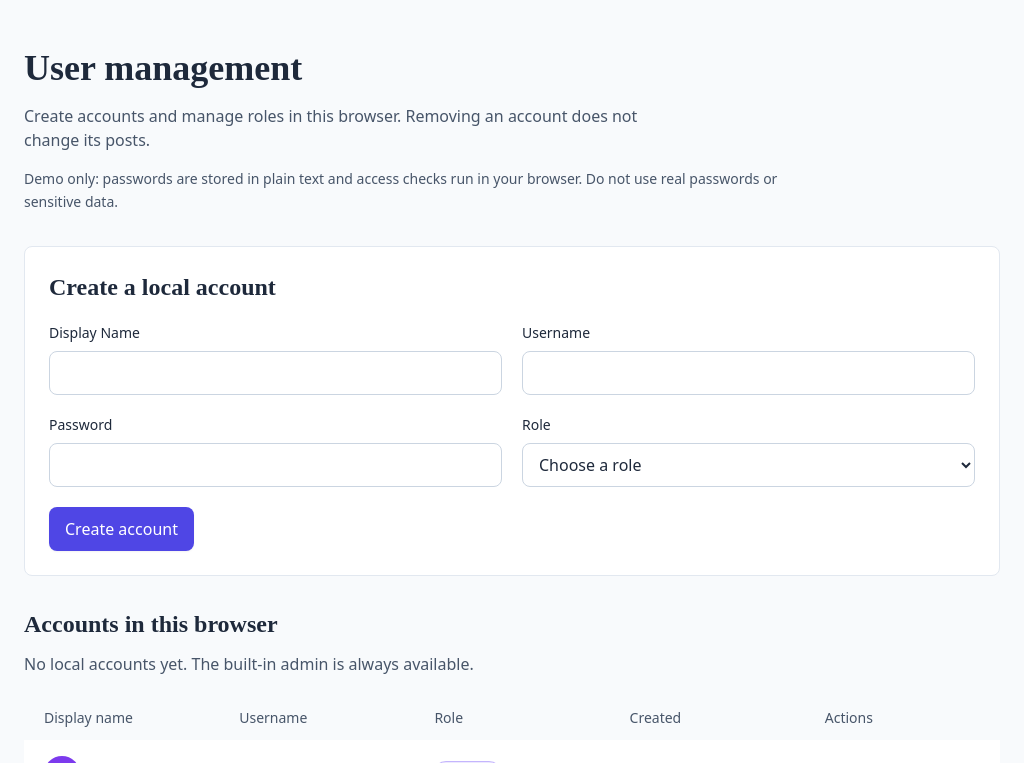
Test: creates user with fresh collection/UUID fields and resets only on success
Type "New Writer" into the field labelled "Display Name".
click(276, 372); type("New Writer")  # box [49,350,502,394]
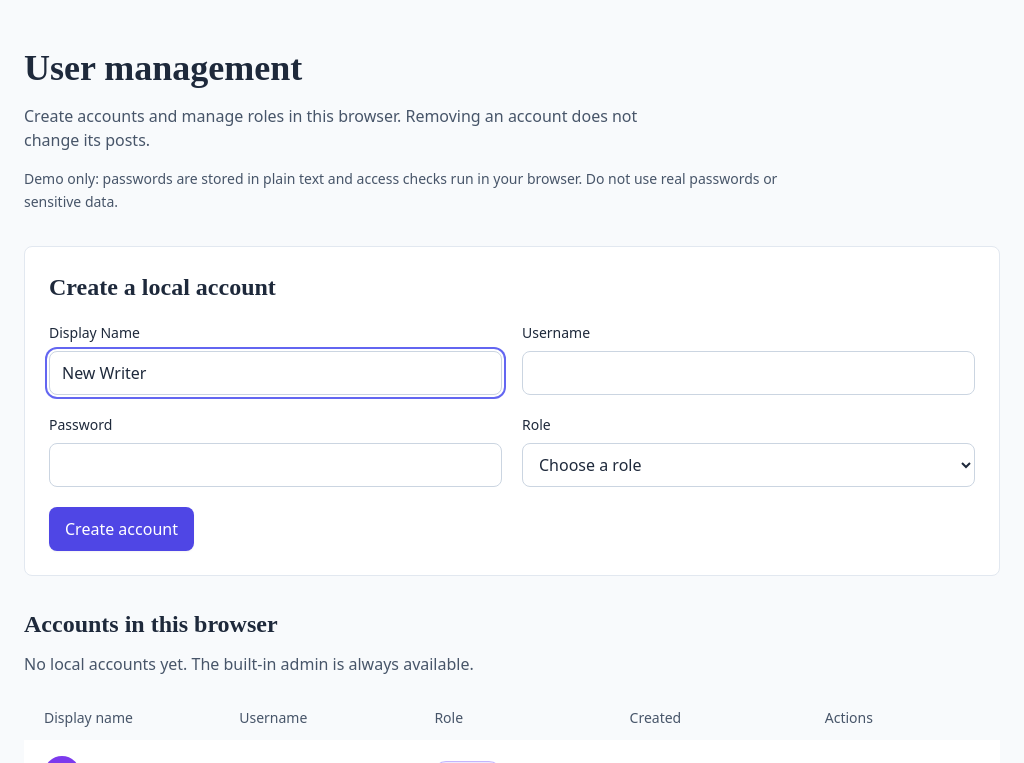
Type "new-writer" into the field labelled "Username".
click(748, 372); type("new-writer")  # box [522,350,975,394]
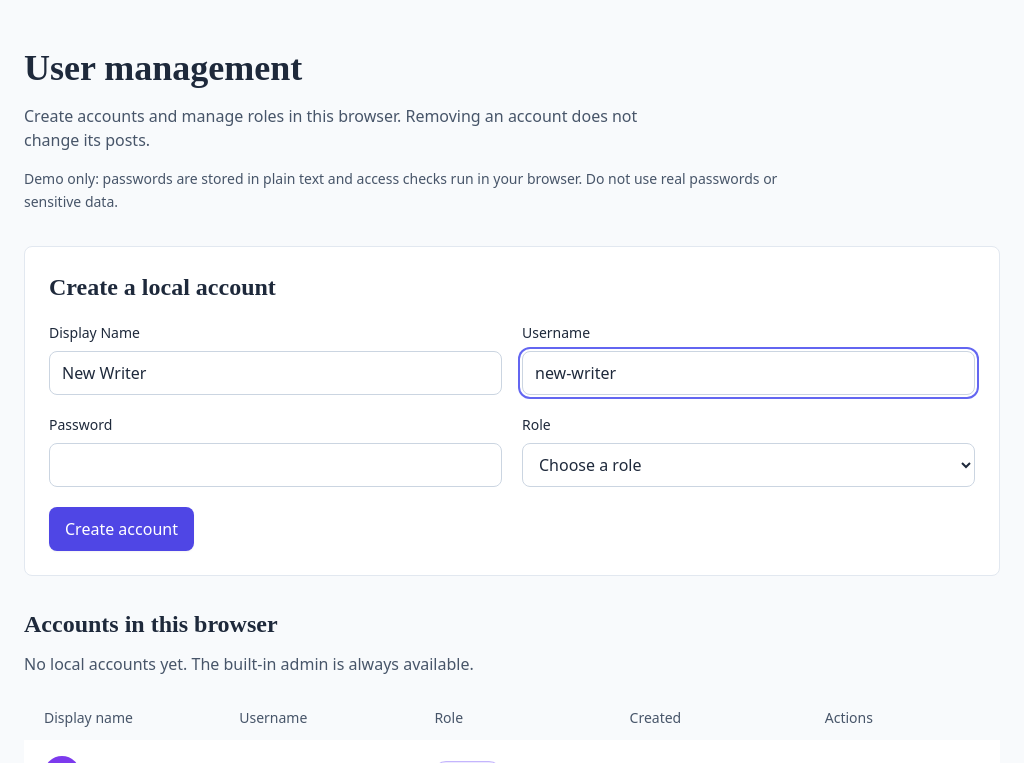
Type "demo-only" into the password field labelled "Password".
click(276, 464); type("demo-only")  # box [49,442,502,486]
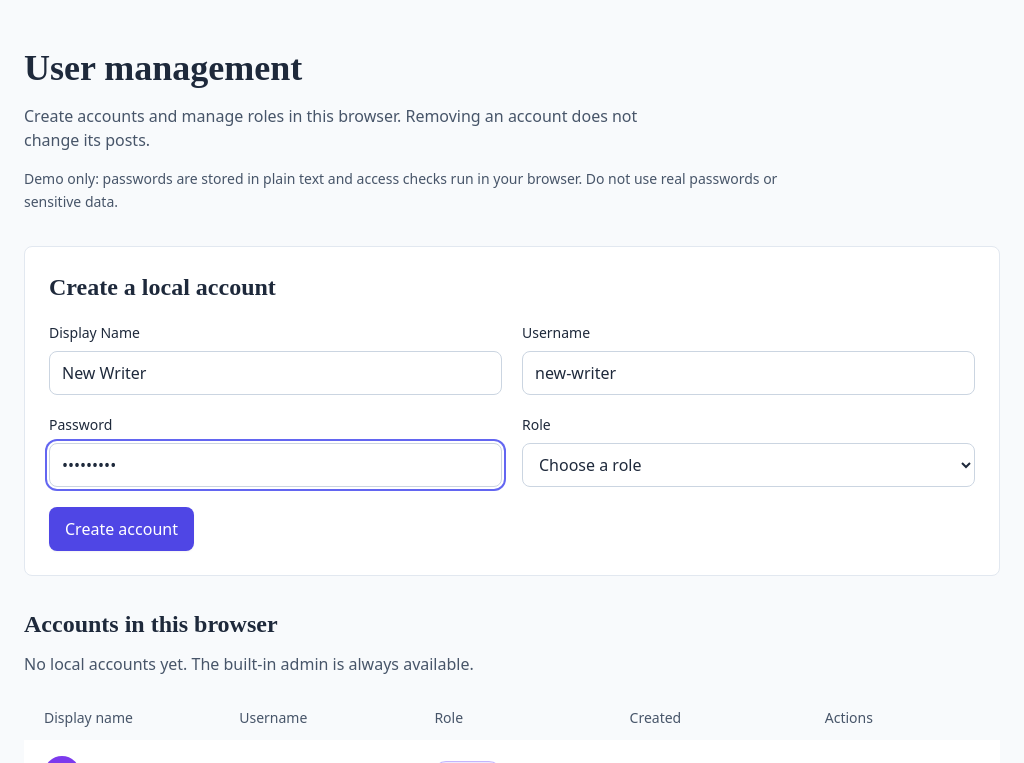
Select "User" in the dropdown labelled "Role" at [748, 464], box [522,442,975,486]
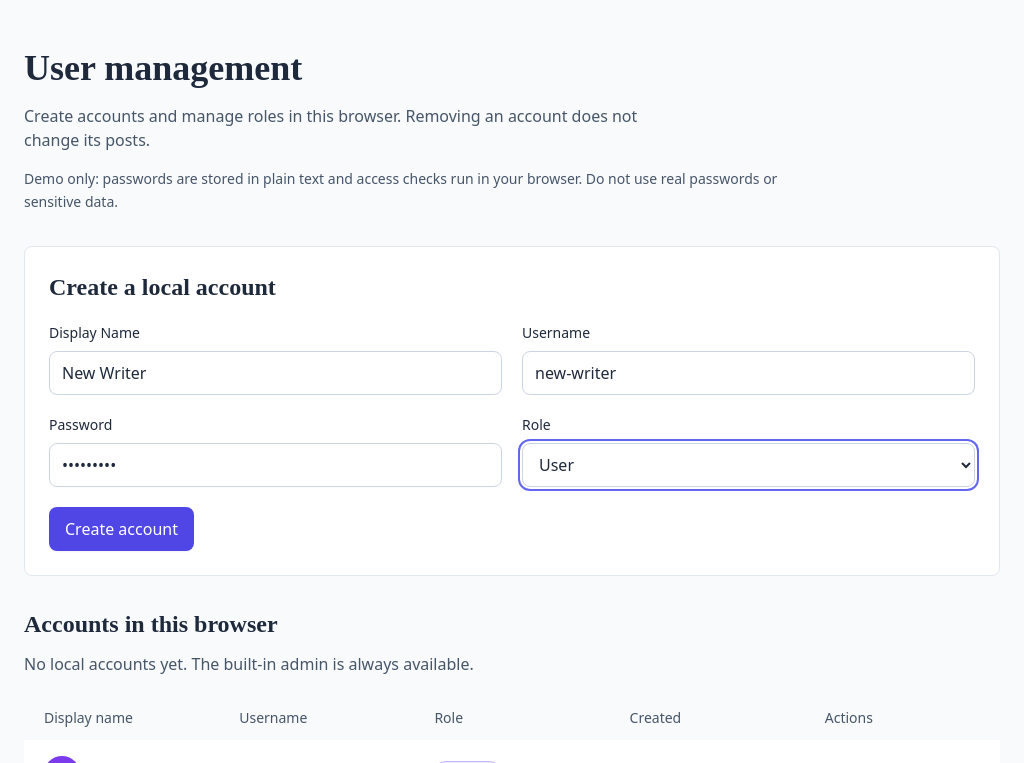
Click the button "Create account".
click(121, 528)  # box [49,506,194,550]
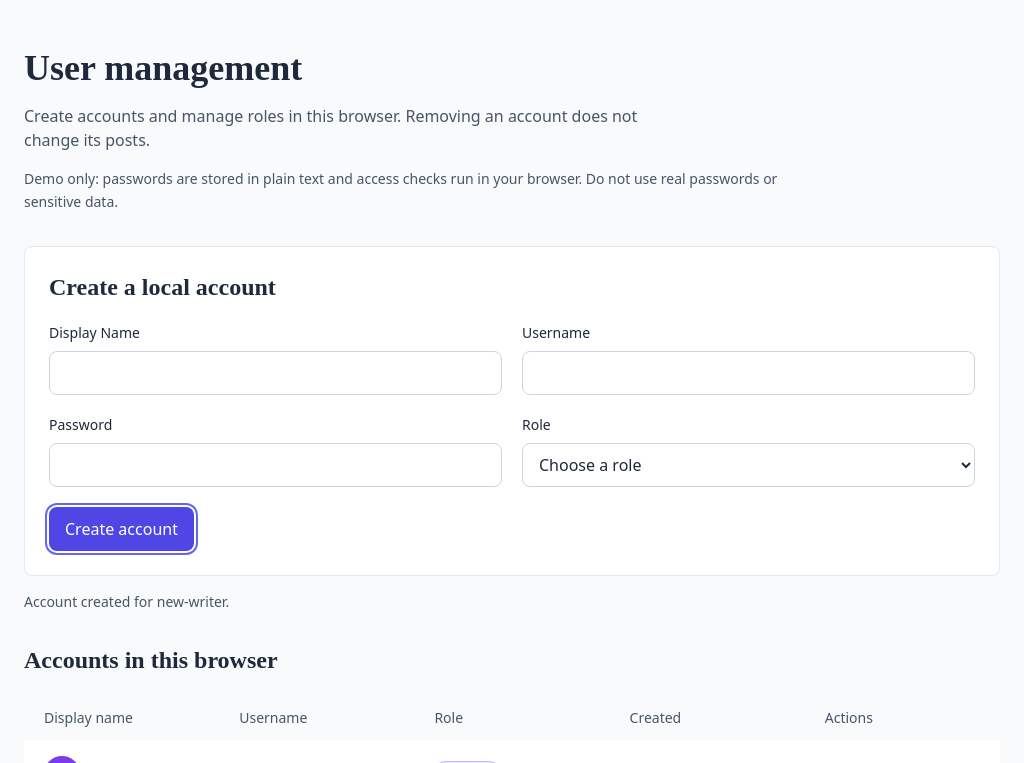
Now the message reads "Account created for new-writer.", box [24,592,229,610]
Now the field labelled "Display Name" is empty, box [49,350,502,394]
Now the field labelled "Username" is empty, box [522,350,975,394]
